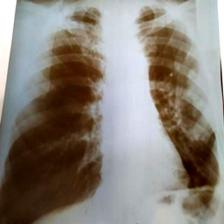tuberculosis: (0, 3, 224, 224)
